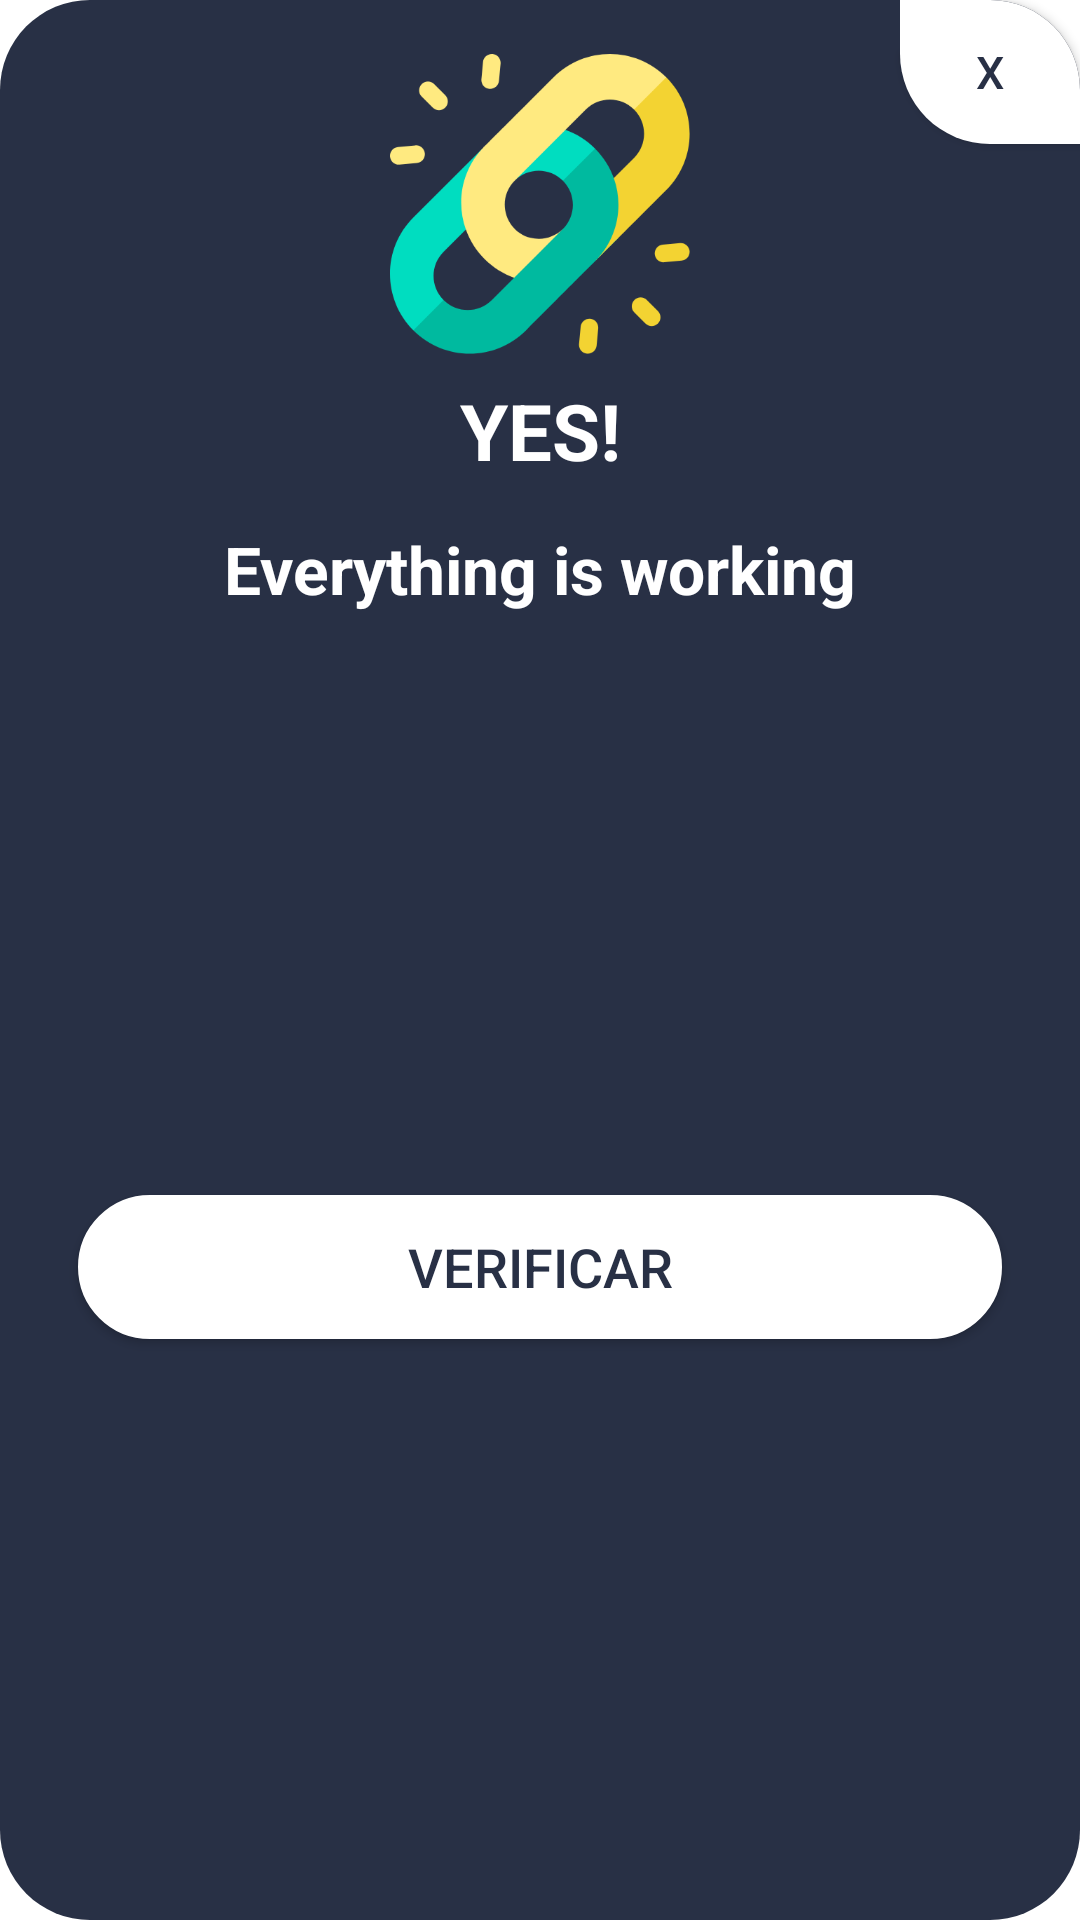

Where to tap for icons on this 1080×1920 app screen, as (x=x, y=y):
conexion: (x=540, y=204)
